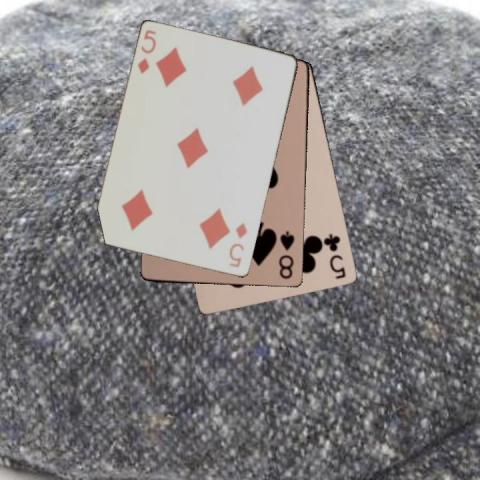5c: (323, 231, 347, 281)
5d: (225, 220, 249, 269), (135, 27, 158, 76)
8s: (277, 228, 296, 281)
